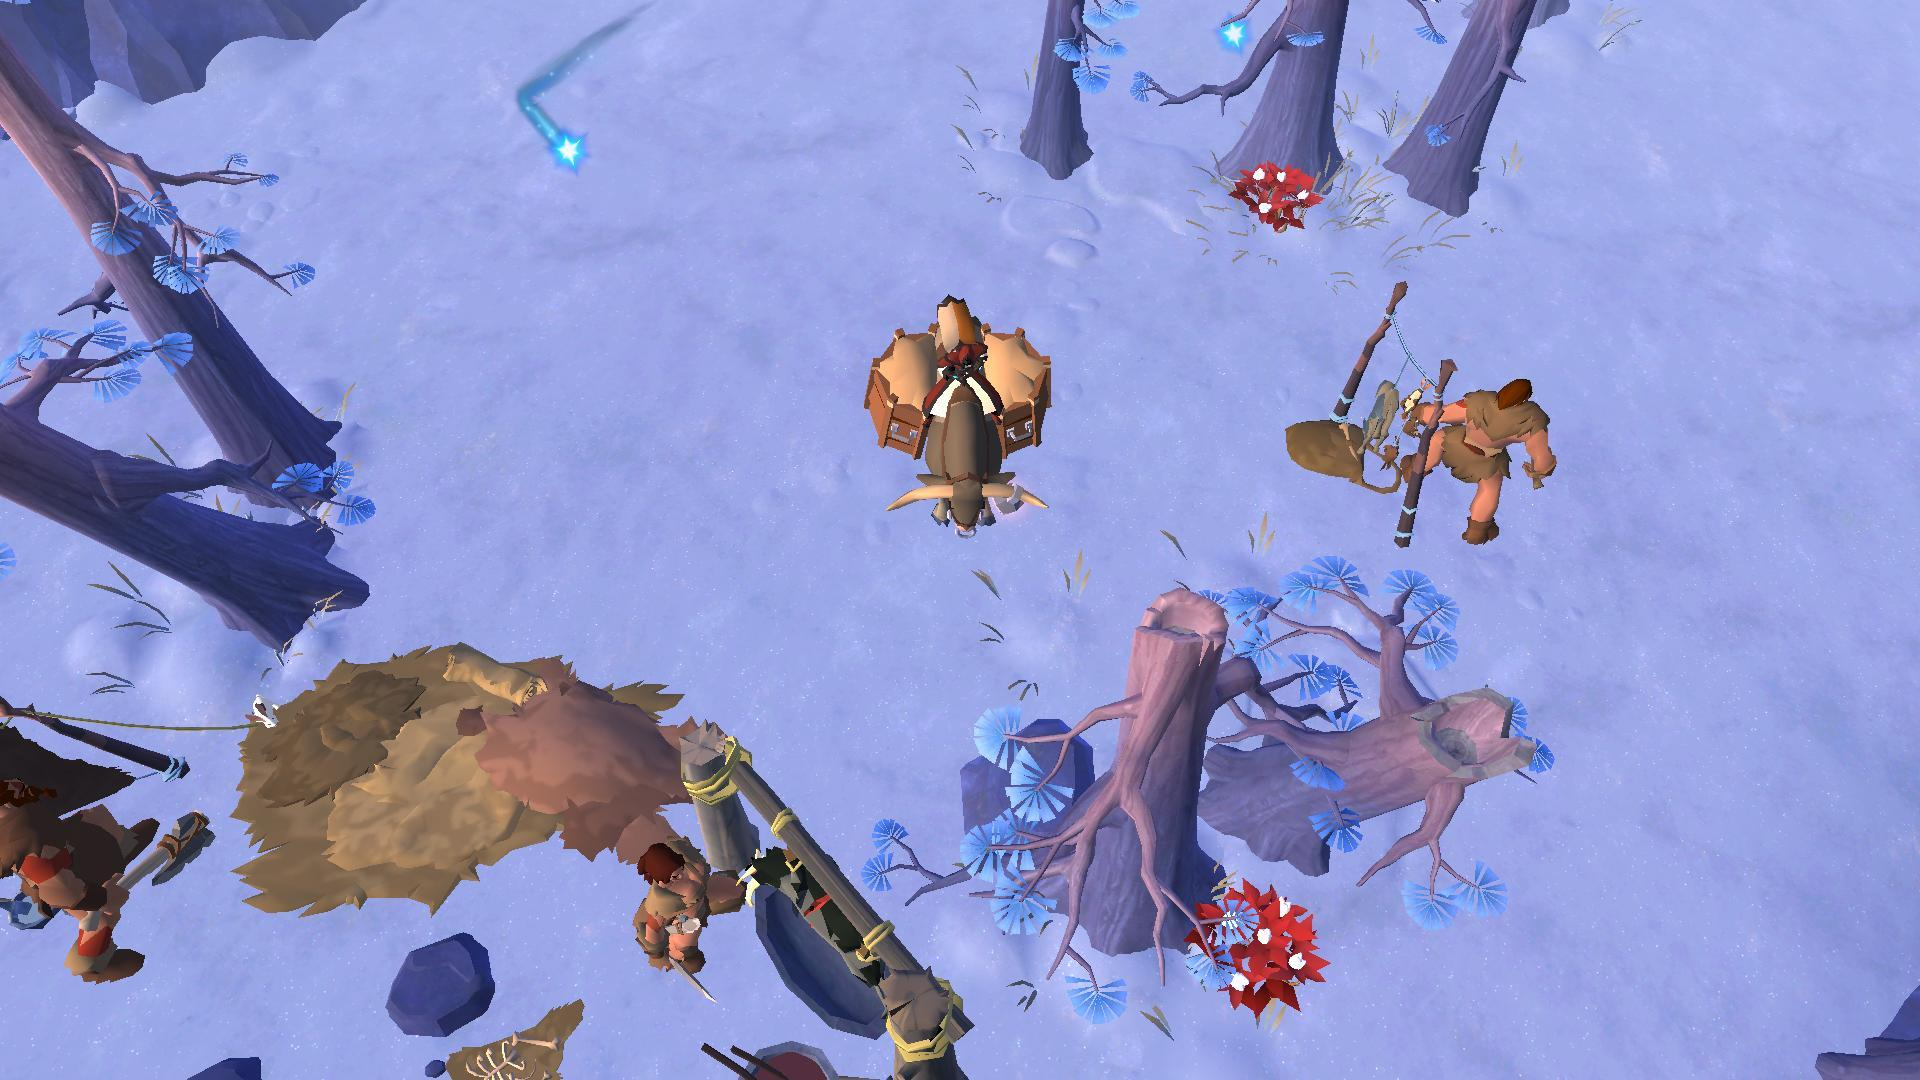enemy_factionKeeper: (0, 766, 219, 1005), (1403, 360, 1565, 547), (612, 828, 750, 976)
fiber_t5: (1184, 878, 1324, 1019), (1236, 157, 1316, 231)
